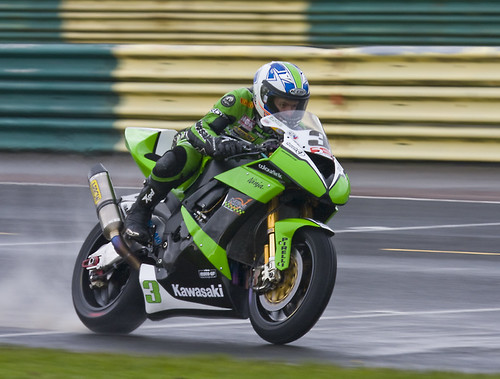helmet: (249, 54, 309, 116)
